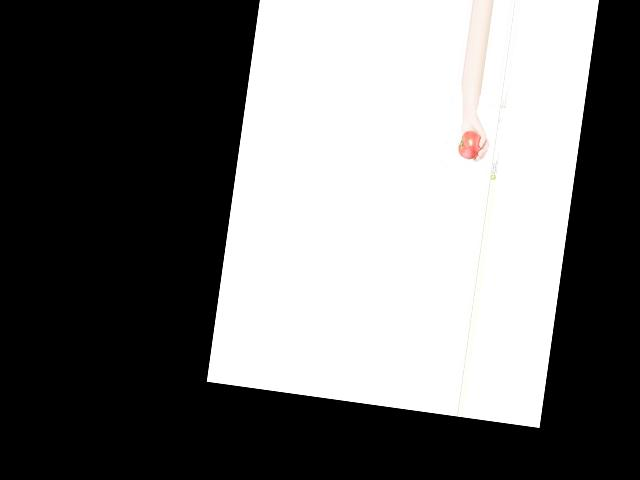tomato: (456, 128, 484, 160)
